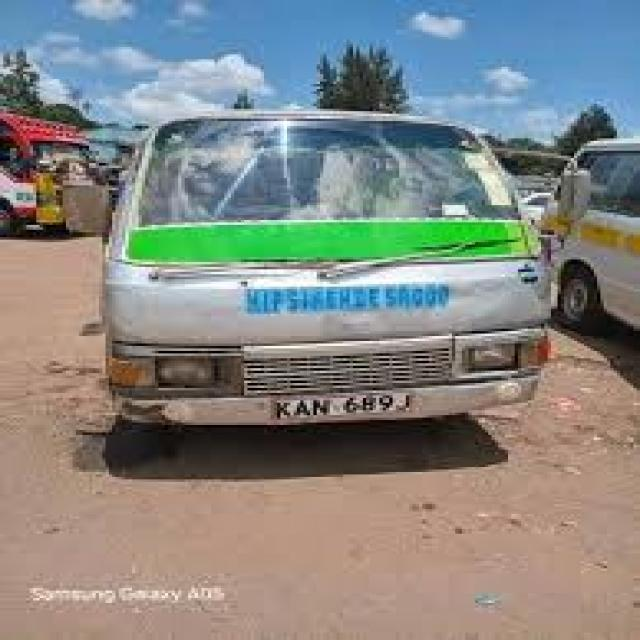matatu: (44, 46, 616, 493)
